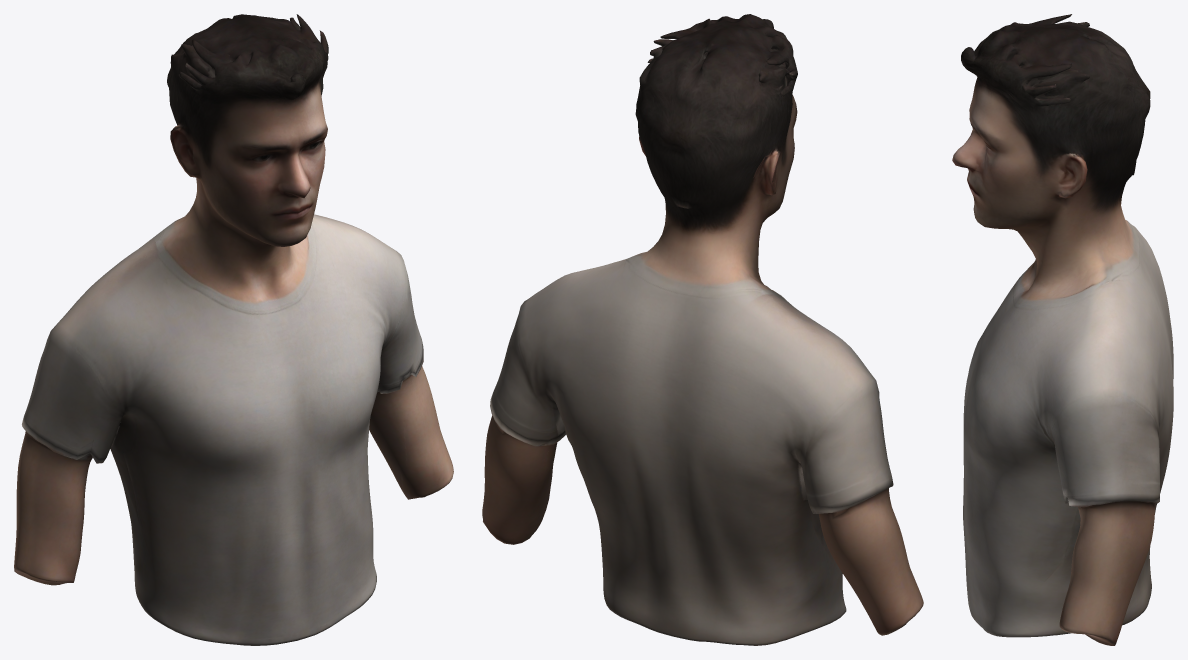
The model's file is man3.glb.
3 views of the same model, side by side, from view 1: azimuth 30°, elevation 25°; view 2: azimuth 150°, elevation 25°; view 3: azimuth 270°, elevation 25° (orthographic).
Bounding box in the file's own units: 1.53 × 1.99 × 0.6887.
Materials: 1 (1 with a texture image).
